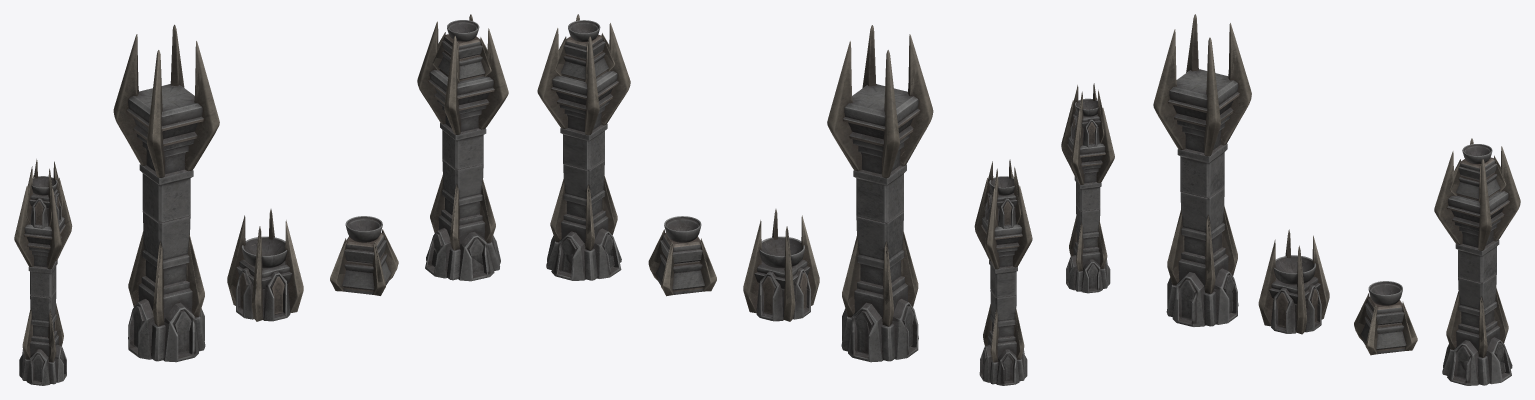
The model's file is Dark_Pillars_1A1.fbx.
3 views of the same model, side by side, from view 1: azimuth 30°, elevation 25°; view 2: azimuth 150°, elevation 25°; view 3: azimuth 330°, elevation 25° (orthographic). The views are drawn at different scales.
Visible parts, largest first — view 1: Pillar_1A1, Pillar_1A2, Pillar_1A1.001, Pillar_1A2.001, Pillar_1A3, Pillar_1A3.001, Fire_Podium_1A1, Fire_Podium_1A2, Fire_Podium_1A1.001, Fire_Podium_1A2.001; view 2: Pillar_1A1, Pillar_1A2, Pillar_1A1.001, Pillar_1A2.001, Pillar_1A3, Pillar_1A3.001, Fire_Podium_1A1, Fire_Podium_1A2, Fire_Podium_1A1.001, Fire_Podium_1A2.001; view 3: Pillar_1A1, Pillar_1A2, Pillar_1A1.001, Pillar_1A2.001, Pillar_1A3, Pillar_1A3.001, Fire_Podium_1A1, Fire_Podium_1A2, Fire_Podium_1A1.001, Fire_Podium_1A2.001.
Part boxes in pixels (x1=…): Pillar_1A1: x1=114, y1=25, x2=219, y2=361; Pillar_1A2: x1=418, y1=14, x2=508, y2=281; Pillar_1A1.001: x1=113, y1=25, x2=219, y2=361; Pillar_1A2.001: x1=417, y1=14, x2=508, y2=280; Pillar_1A3: x1=14, y1=159, x2=71, y2=385; Pillar_1A3.001: x1=14, y1=161, x2=72, y2=385; Fire_Podium_1A1: x1=227, y1=213, x2=303, y2=321; Fire_Podium_1A2: x1=330, y1=216, x2=398, y2=295; Fire_Podium_1A1.001: x1=227, y1=209, x2=302, y2=321; Fire_Podium_1A2.001: x1=330, y1=217, x2=397, y2=295; Pillar_1A1: x1=829, y1=25, x2=932, y2=362; Pillar_1A2: x1=539, y1=14, x2=630, y2=280; Pillar_1A1.001: x1=827, y1=25, x2=933, y2=361; Pillar_1A2.001: x1=537, y1=14, x2=630, y2=280; Pillar_1A3: x1=975, y1=160, x2=1032, y2=385; Pillar_1A3.001: x1=974, y1=159, x2=1032, y2=385; Fire_Podium_1A1: x1=743, y1=213, x2=819, y2=321; Fire_Podium_1A2: x1=648, y1=216, x2=716, y2=294; Fire_Podium_1A1.001: x1=743, y1=209, x2=818, y2=321; Fire_Podium_1A2.001: x1=648, y1=217, x2=715, y2=296; Pillar_1A1: x1=1155, y1=14, x2=1251, y2=326; Pillar_1A2: x1=1436, y1=138, x2=1520, y2=385; Pillar_1A1.001: x1=1153, y1=14, x2=1251, y2=326; Pillar_1A2.001: x1=1434, y1=138, x2=1520, y2=385; Pillar_1A3: x1=1061, y1=83, x2=1114, y2=293; Pillar_1A3.001: x1=1061, y1=87, x2=1114, y2=293; Fire_Podium_1A1: x1=1258, y1=233, x2=1329, y2=334; Fire_Podium_1A2: x1=1354, y1=281, x2=1417, y2=354; Fire_Podium_1A1.001: x1=1258, y1=229, x2=1329, y2=334; Fire_Podium_1A2.001: x1=1354, y1=282, x2=1416, y2=355.
Size of the model in its own units: 1950 by 1196 by 285.
